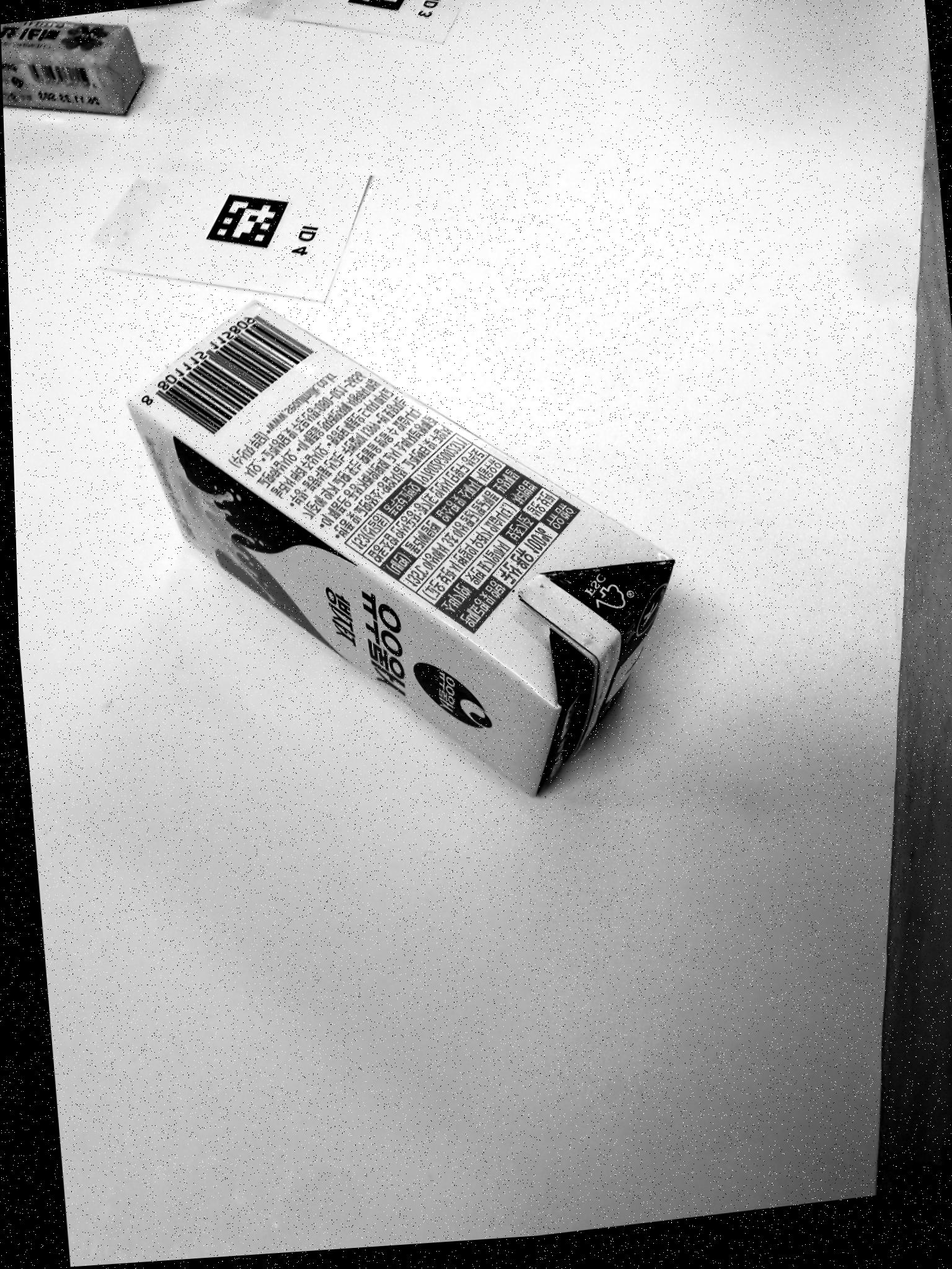milk_blue: (130, 303, 673, 794)
